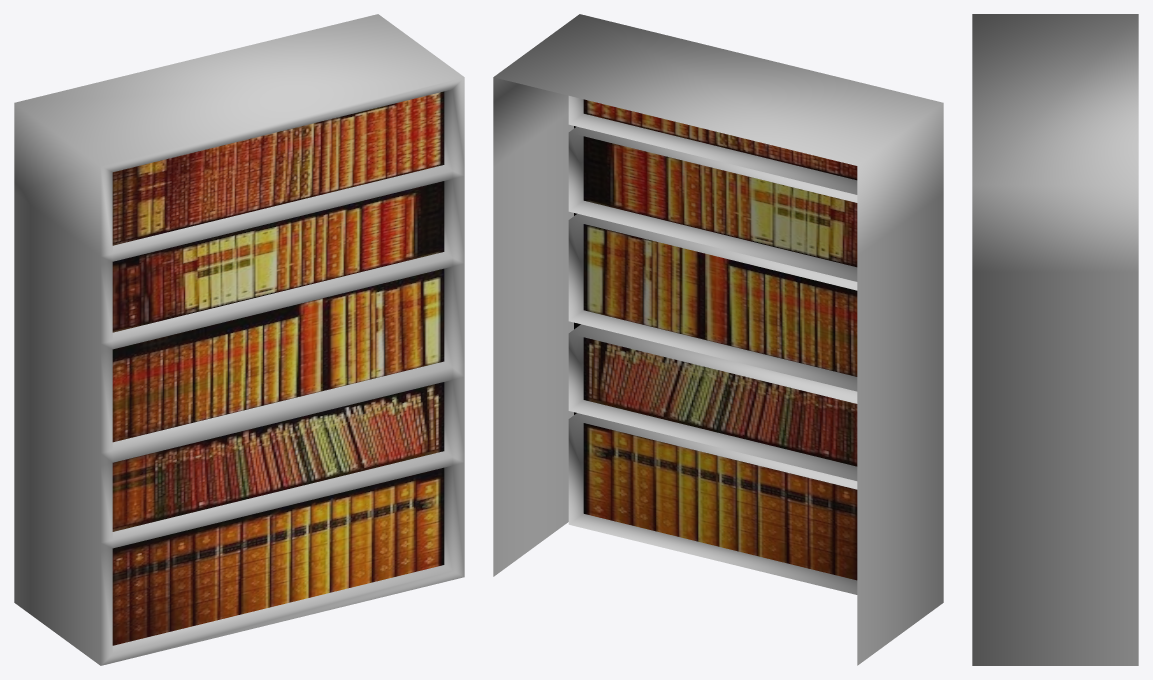
File: Prop_BookCase.fbx
3 renders of one model, left to right at view 1: azimuth 30°, elevation 25°; view 2: azimuth 150°, elevation 25°; view 3: azimuth 270°, elevation 25°, orthographic. The views are drawn at different scales.
Parts seen in each view (by area): view 1: Cube_014, Cube_004; view 2: Cube_004, Cube_014; view 3: Cube_004.
Part boxes in pixels (box(x1,y1,x2,y2)): Cube_014: box(112, 91, 444, 645); Cube_004: box(14, 14, 464, 665); Cube_004: box(493, 14, 943, 665); Cube_014: box(574, 99, 857, 580); Cube_004: box(972, 14, 1138, 665).
Bounding box in the file's own units: 3.06 × 4.01 × 1.26.
